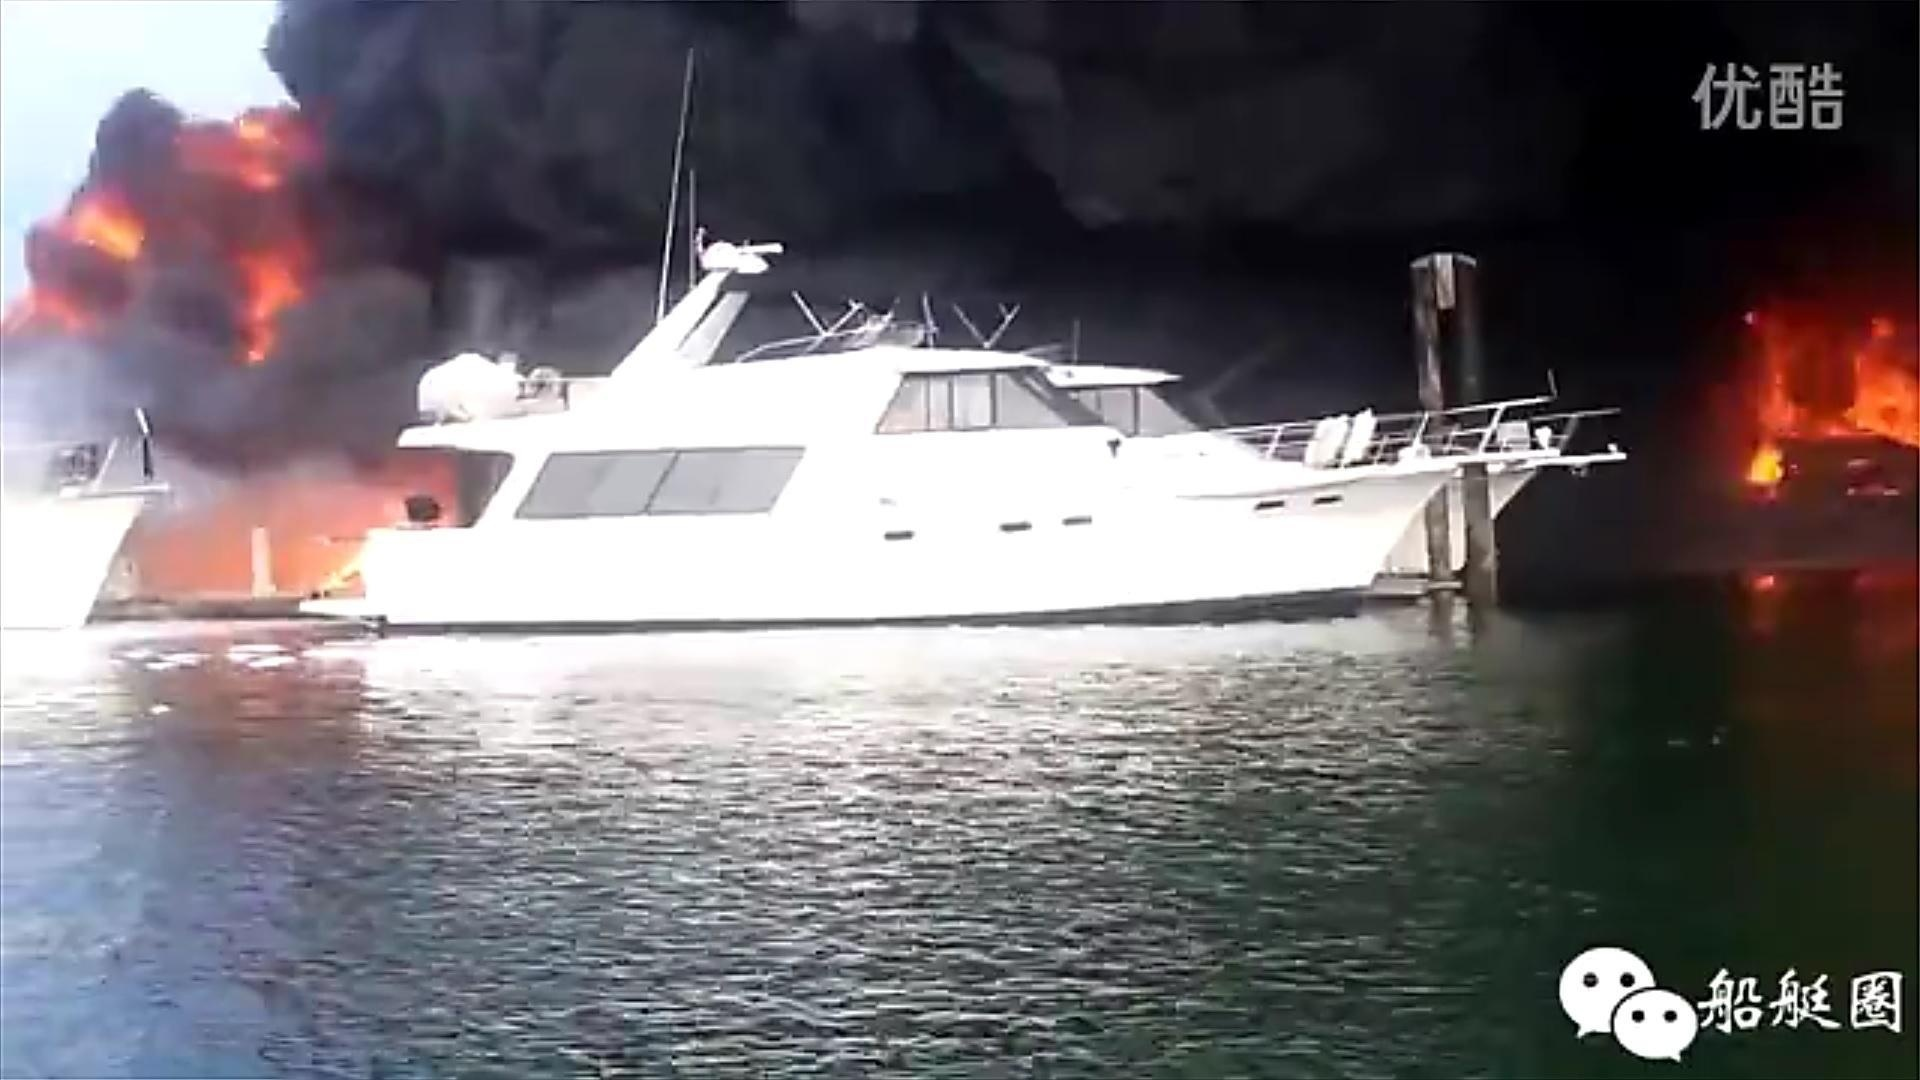fire: (25, 109, 305, 361), (1735, 306, 1919, 491)
